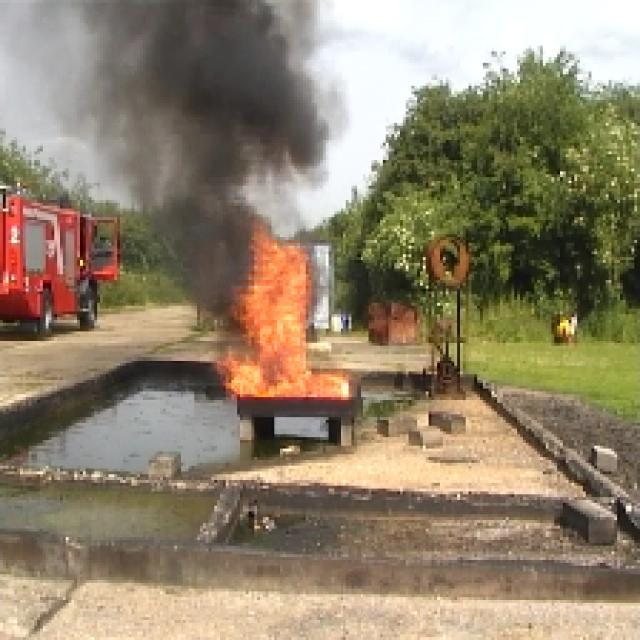Fire: (244, 247, 308, 390)
Smoke: (158, 14, 242, 272)
